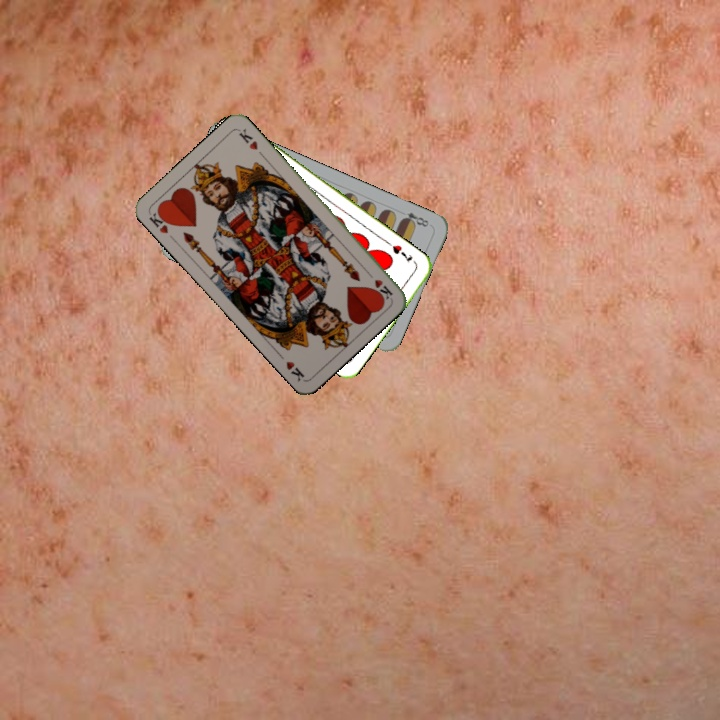E8: (395, 207, 431, 230)
H7: (383, 238, 415, 266)
HK: (362, 267, 395, 302), (145, 205, 175, 236)
